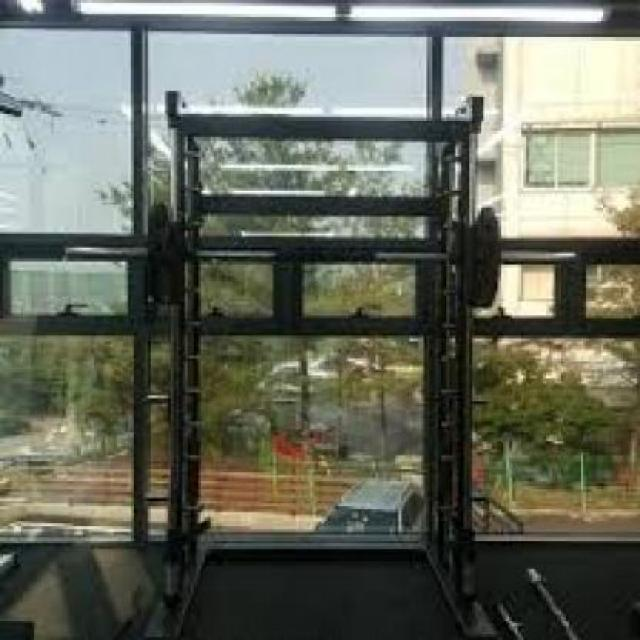smith machine: (144, 87, 509, 640)
